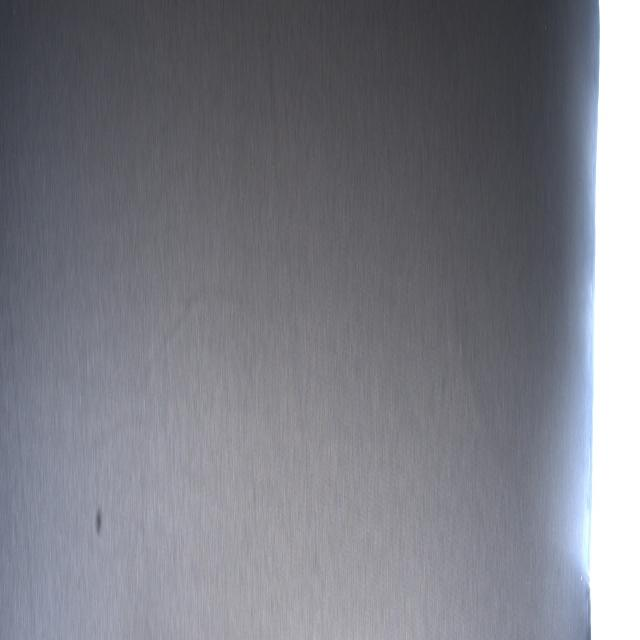crease: (267, 5, 299, 393), (8, 297, 37, 633), (140, 287, 216, 393), (96, 406, 143, 455)
